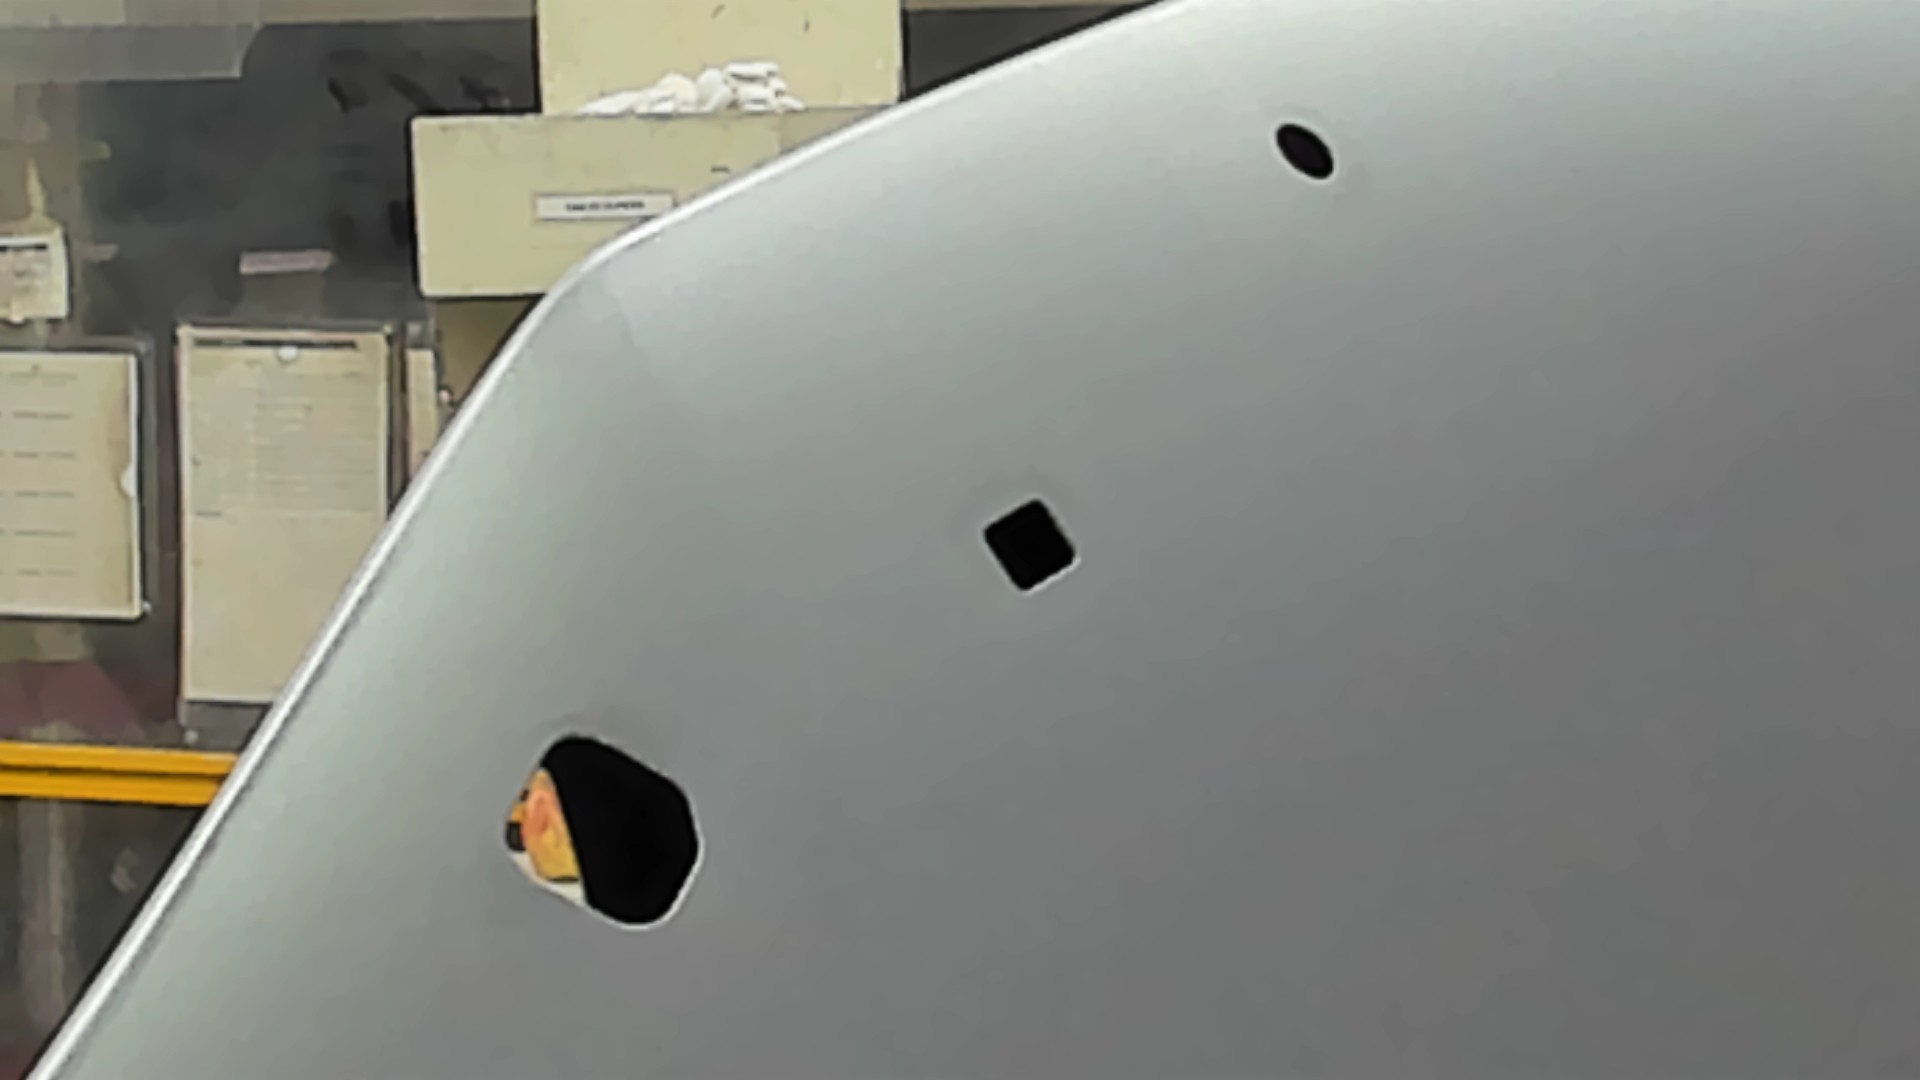capo: (1092, 194, 1920, 1080)
chico: (1271, 119, 1341, 189)
grande: (500, 728, 707, 940)
mediano: (975, 495, 1084, 603)
